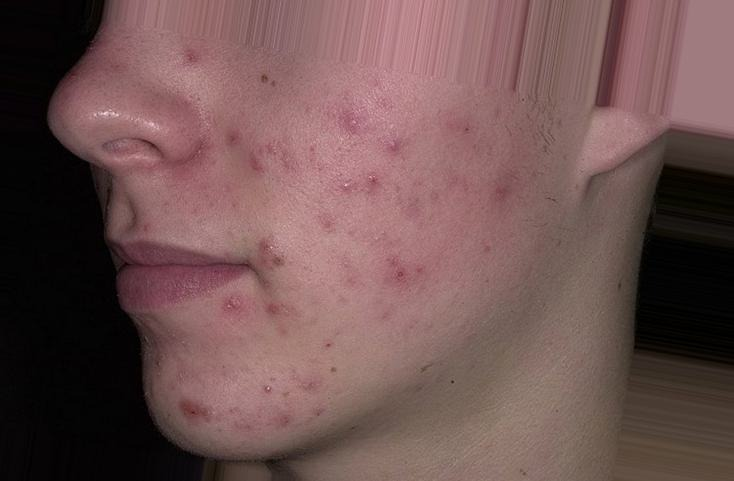Acne: (68, 40, 546, 440)
